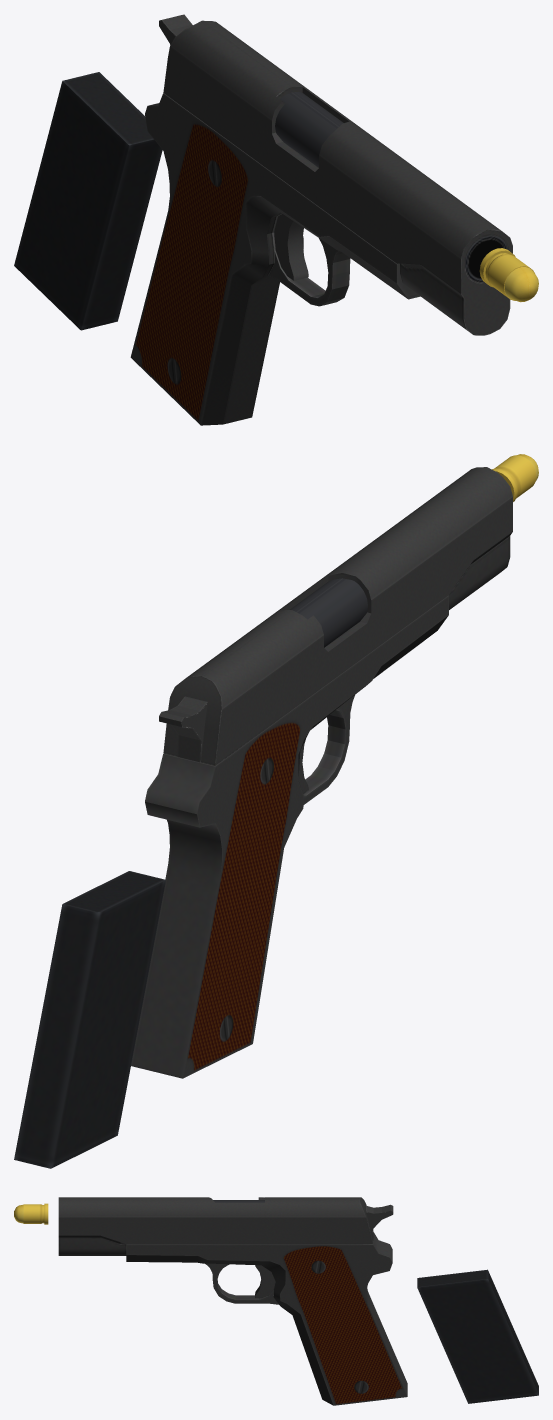
Rendered from Colt 1911.fbx.
The picture shows the model from 3 angles, top to bottom: view 1: azimuth 30°, elevation 25°; view 2: azimuth 150°, elevation 25°; view 3: azimuth 270°, elevation 25°; orthographic projection. The views are drawn at different scales.
Visible parts, largest first — view 1: Bottom, Top, Magazine, Barrel, Trigger, Casting, Bullet, Hammer; view 2: Bottom, Top, Magazine, Barrel, Hammer, Casting; view 3: Bottom, Top, Magazine, Casting, Hammer, Trigger.
Boxes of the visible parts, box(x1,y1,x2,y2) form: Bottom: box(130, 93, 420, 425); Top: box(163, 20, 512, 335); Magazine: box(14, 72, 162, 330); Barrel: box(275, 92, 343, 167); Trigger: box(274, 214, 308, 280); Casting: box(479, 248, 534, 300); Bullet: box(504, 267, 538, 302); Hammer: box(159, 14, 192, 44); Bottom: box(131, 595, 448, 1078); Top: box(163, 467, 512, 765); Magazine: box(14, 871, 165, 1168); Barrel: box(290, 578, 367, 647); Hammer: box(159, 696, 207, 762); Casting: box(492, 455, 536, 501); Bottom: box(126, 1232, 407, 1405); Top: box(58, 1197, 372, 1255); Magazine: box(417, 1269, 538, 1403); Casting: box(23, 1203, 48, 1224); Hammer: box(366, 1204, 393, 1240); Trigger: box(255, 1265, 275, 1298).
Size of the model in its own units: 1 by 6.97 by 16.5.
